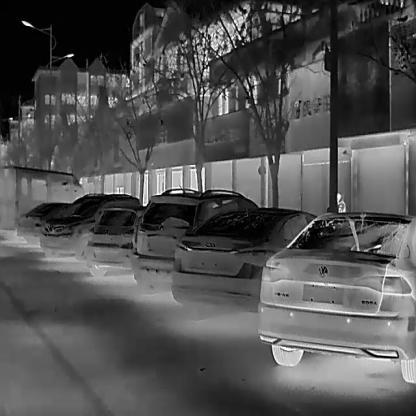car: (257, 211, 415, 383), (170, 205, 318, 321), (131, 186, 256, 298), (38, 191, 140, 259), (1, 163, 86, 242), (86, 208, 151, 279), (14, 200, 81, 244)
